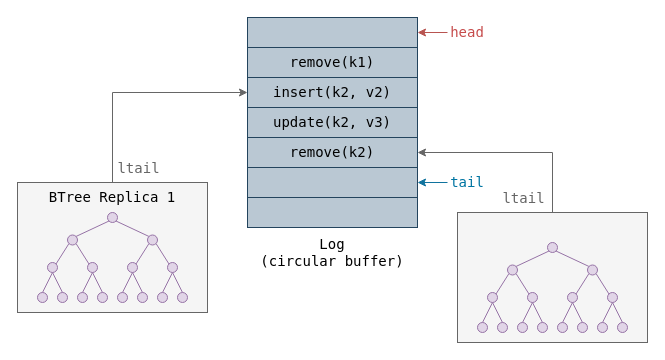
This 665x360 diagram has some shape labels left out. Here are the shapes that lost their labels. From the top down, the centre of each, then its label:
(x=332, y=32): insert(k1, v1)
(x=552, y=277): BTree Replica 2
